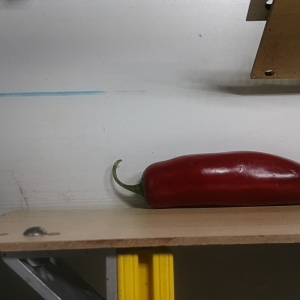Cut Point: (130, 164, 161, 208)
